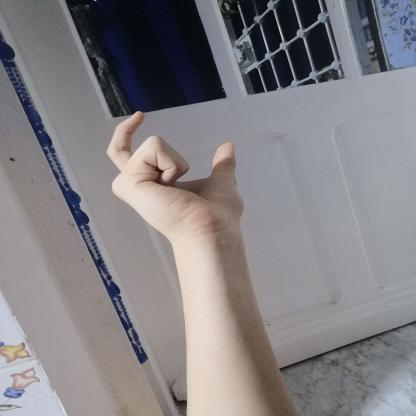NOON: (90, 99, 258, 249)
